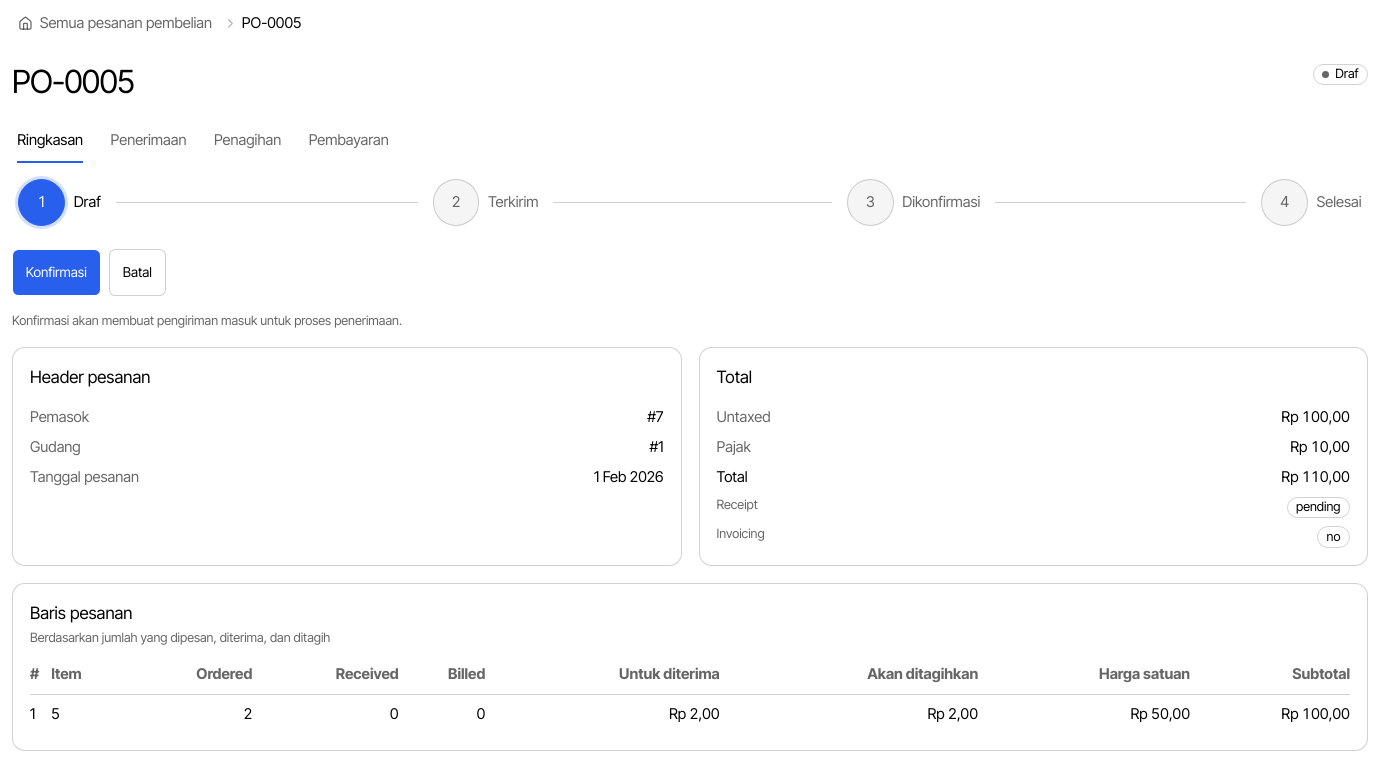
Test: PurchaseOrderDetail extra2 › hints that receiving needs confirmation for draft orders
The width and height of the screenshot is (1378, 768).
Click the tab "Penerimaan" at [148, 141], box [110,117,187,164]
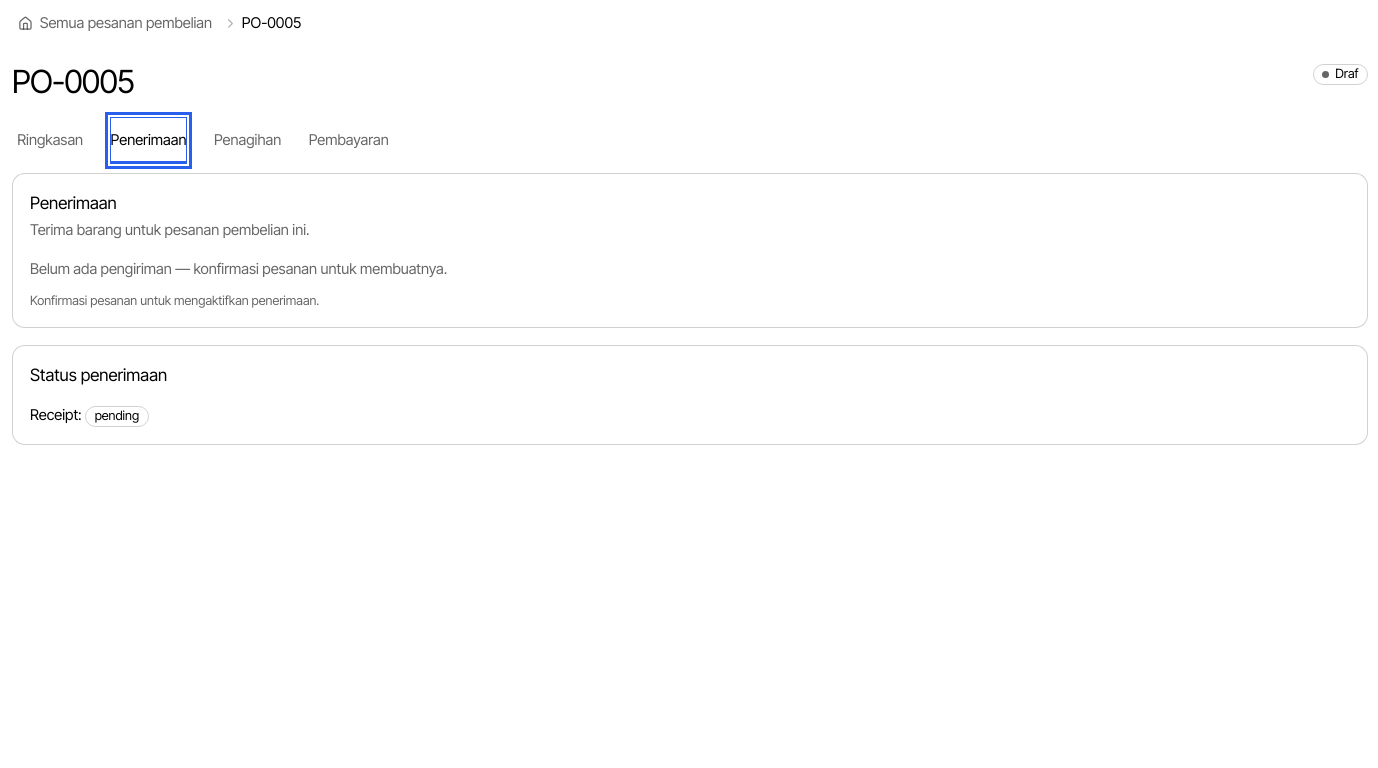
Expected: the text "Belum ada pengiriman — konfirmasi pesanan untuk membuatnya." is shown, [30,260,447,278]
Expected: the text "Konfirmasi pesanan untuk mengaktifkan penerimaan." is shown, [30,293,319,308]
